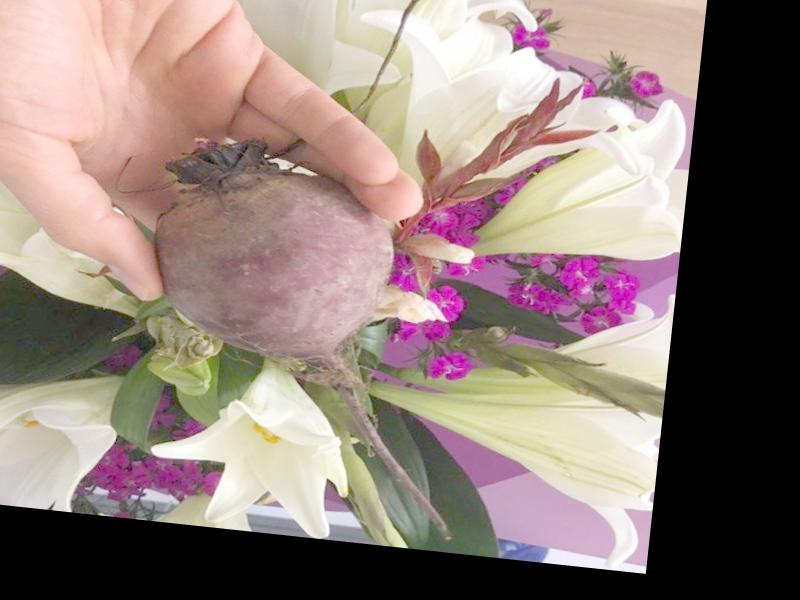Beet: (127, 132, 492, 537)
